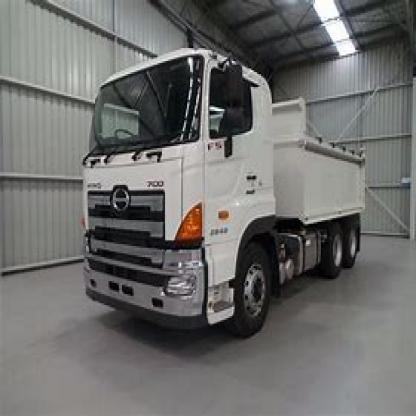dump_truck: (67, 43, 374, 348)
